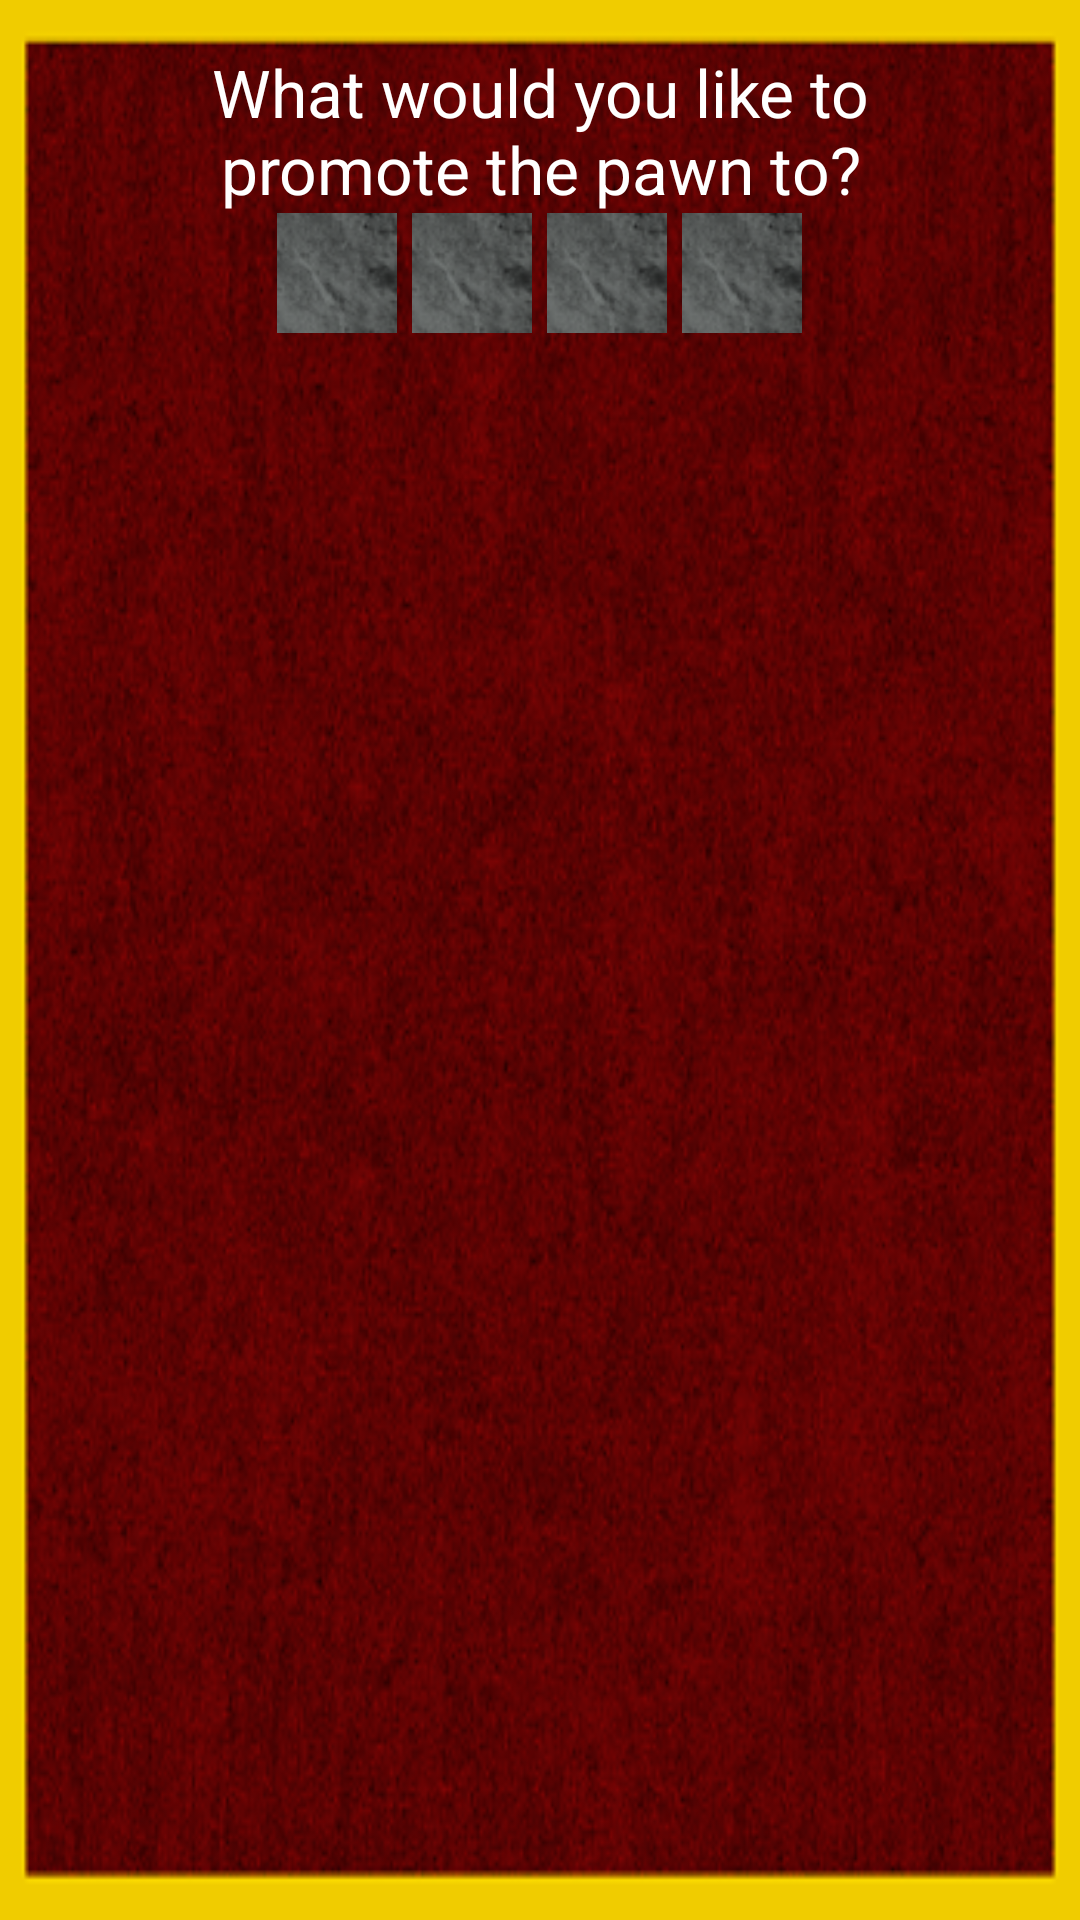

Screen size 1080w x 1920h. Icon name, then its center in pixels as [x,y]:
darksquaretile: [337,273], [472,273], [607,273], [742,273]
